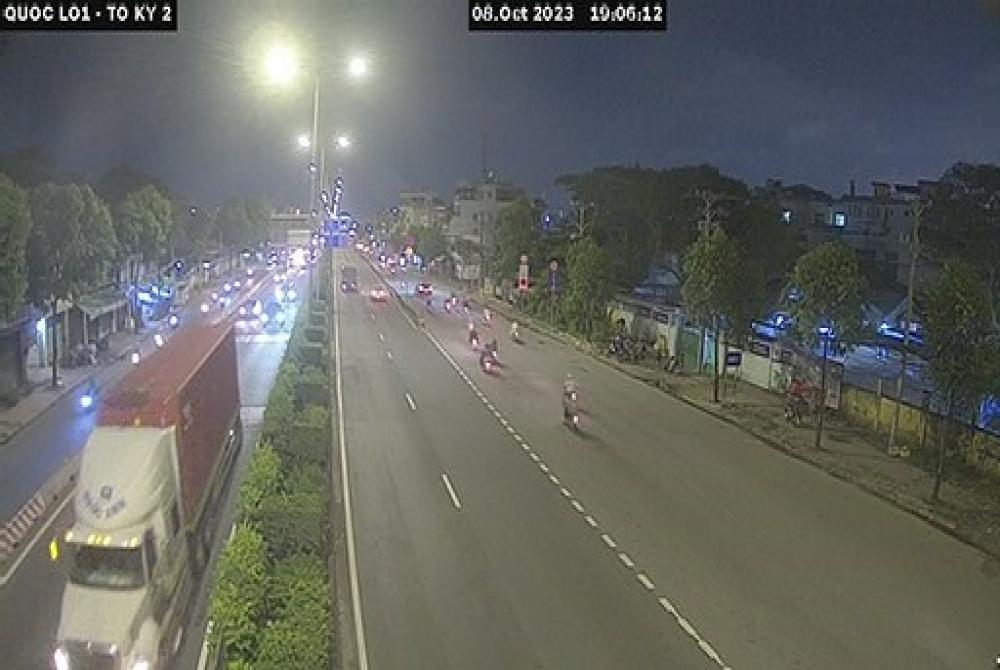truck: (54, 326, 243, 670)
